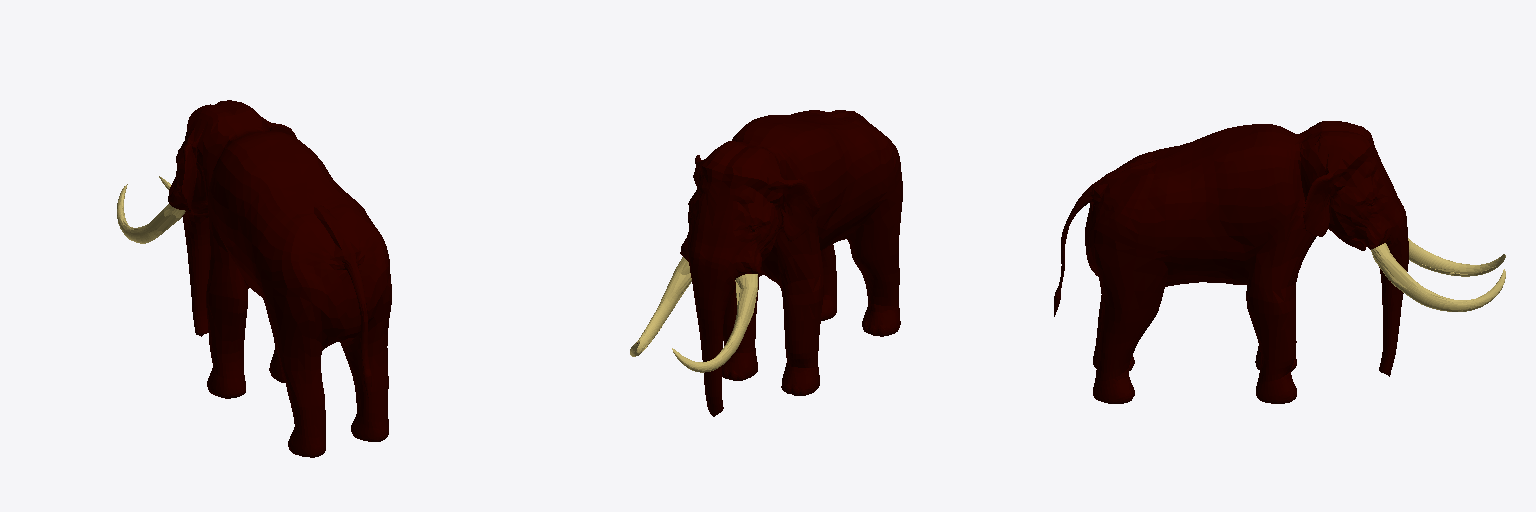
File: mammoth.obj
The picture shows the model from 3 angles: view 1: azimuth 30°, elevation 25°; view 2: azimuth 150°, elevation 25°; view 3: azimuth 270°, elevation 25°; orthographic projection.
Visible parts, largest first — view 1: MAMMOTH; view 2: MAMMOTH; view 3: MAMMOTH.
Boxes of the visible parts, <box> form: MAMMOTH: <box>117,100,391,457</box>; MAMMOTH: <box>630,110,902,416</box>; MAMMOTH: <box>1054,121,1505,403</box>.
Size of the model in its own units: 1.77 by 3.4 by 5.46.